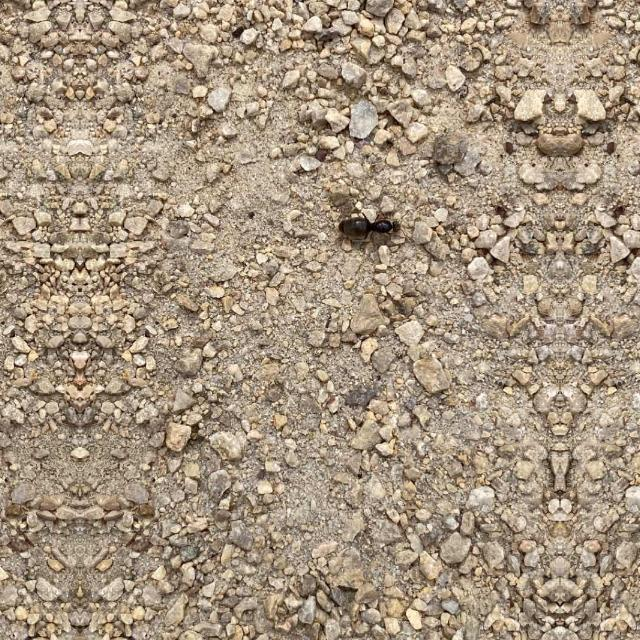Lasius: (331, 205, 407, 245)
